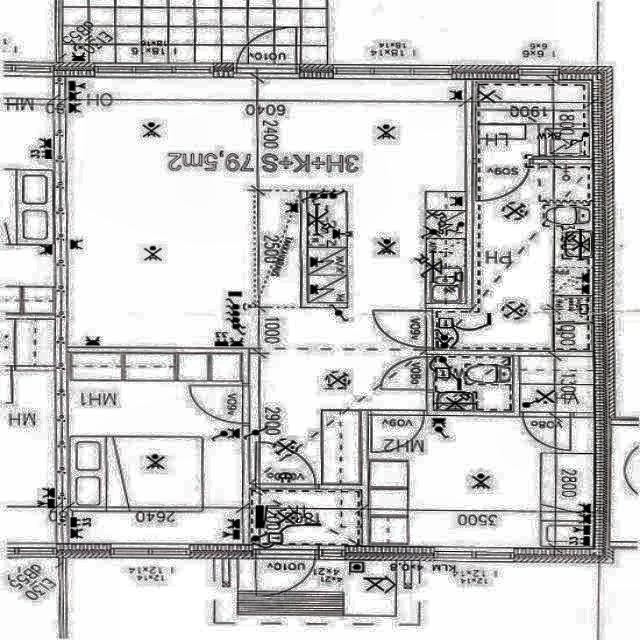room: (68, 353, 244, 545), (368, 416, 594, 548), (434, 164, 593, 351), (472, 80, 593, 158), (434, 355, 513, 412), (520, 356, 595, 412)
